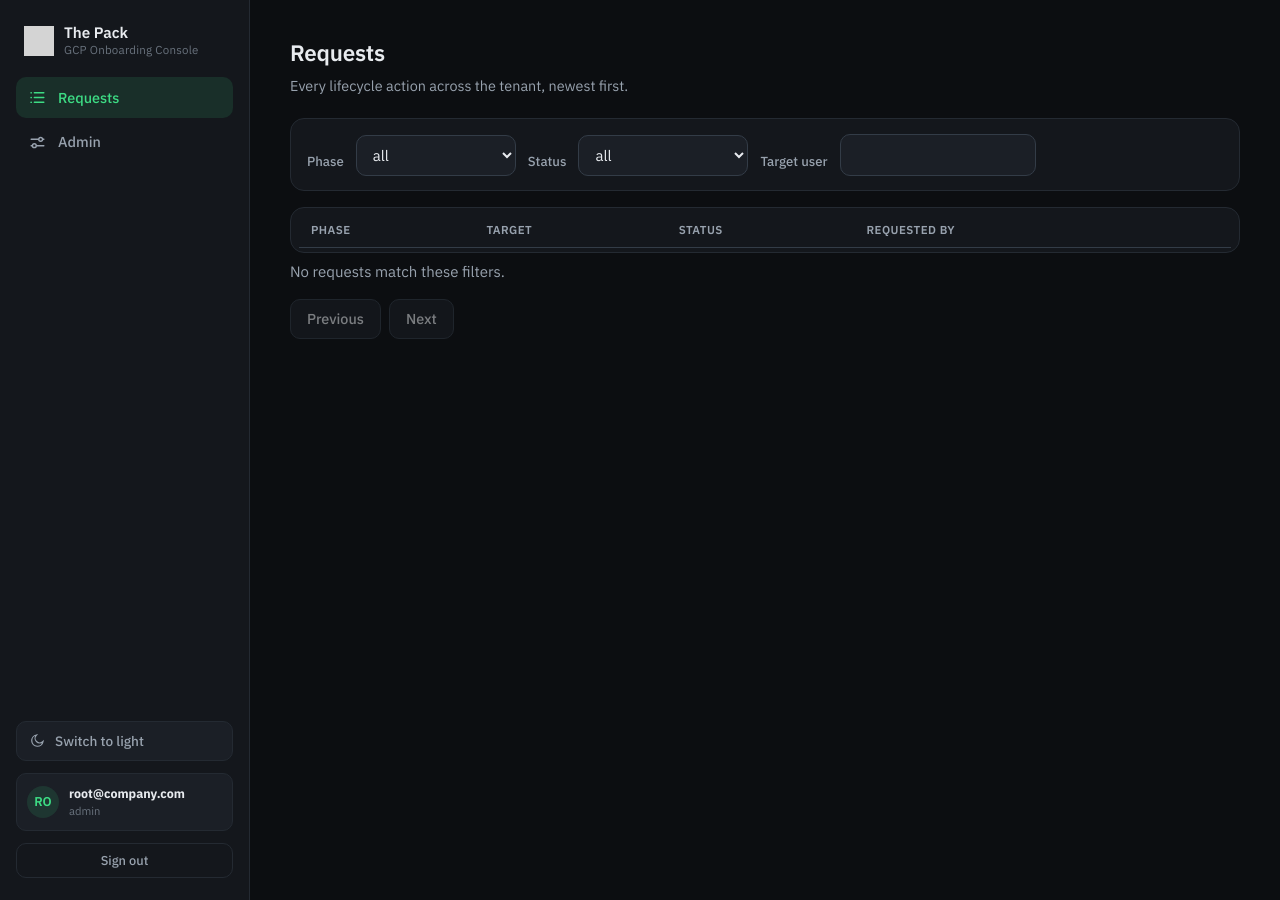
Test: REQ-012 AC-5: the admin surface is reachable, and only by admins › saves a binding as a PUT of the complete role set
Click the button "Admin".
click(124, 142)  # box [16, 121, 233, 163]
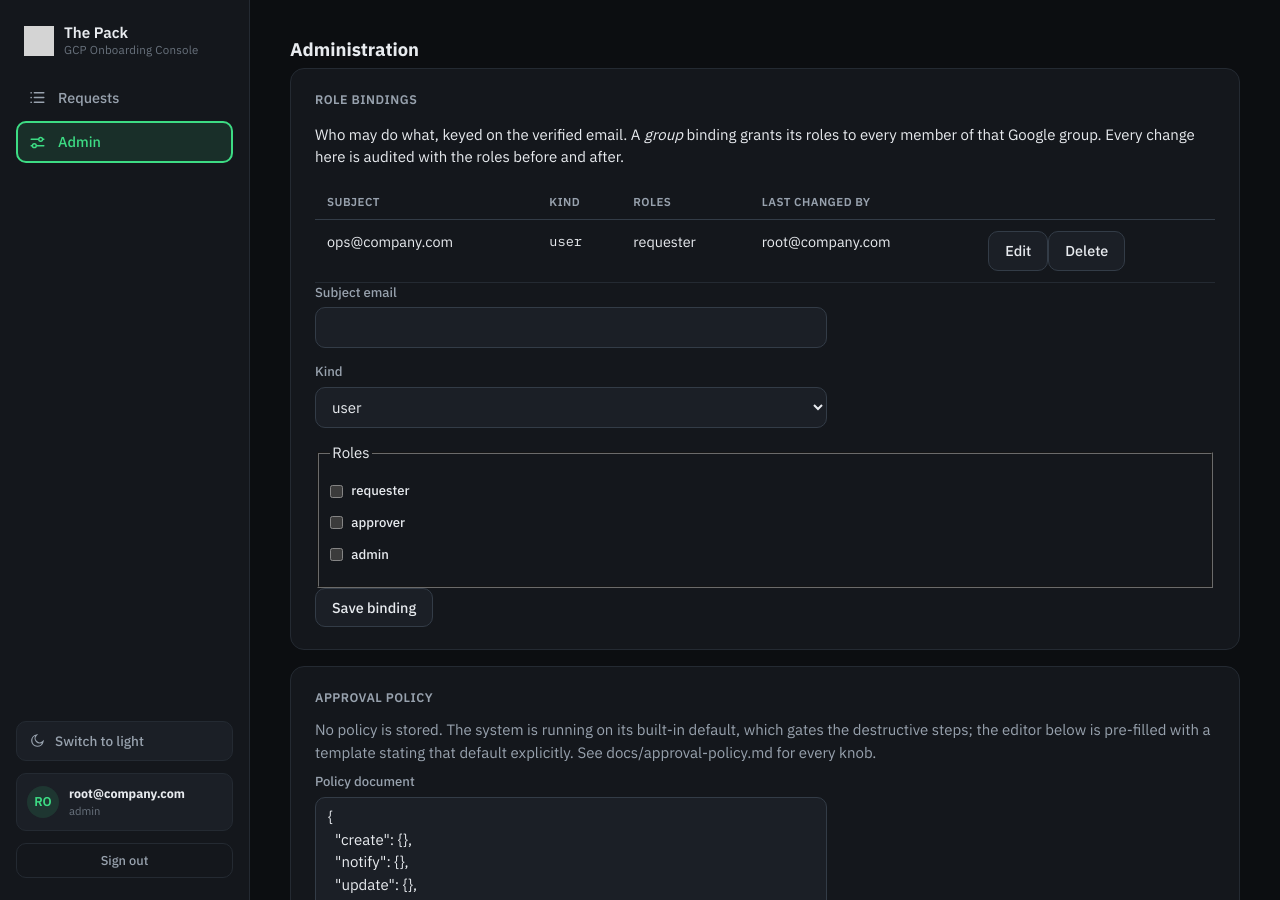
Type "new.admin@company.com" into the field labelled "Subject email".
click(571, 328); type("new.admin@company.com")  # box [315, 307, 827, 348]
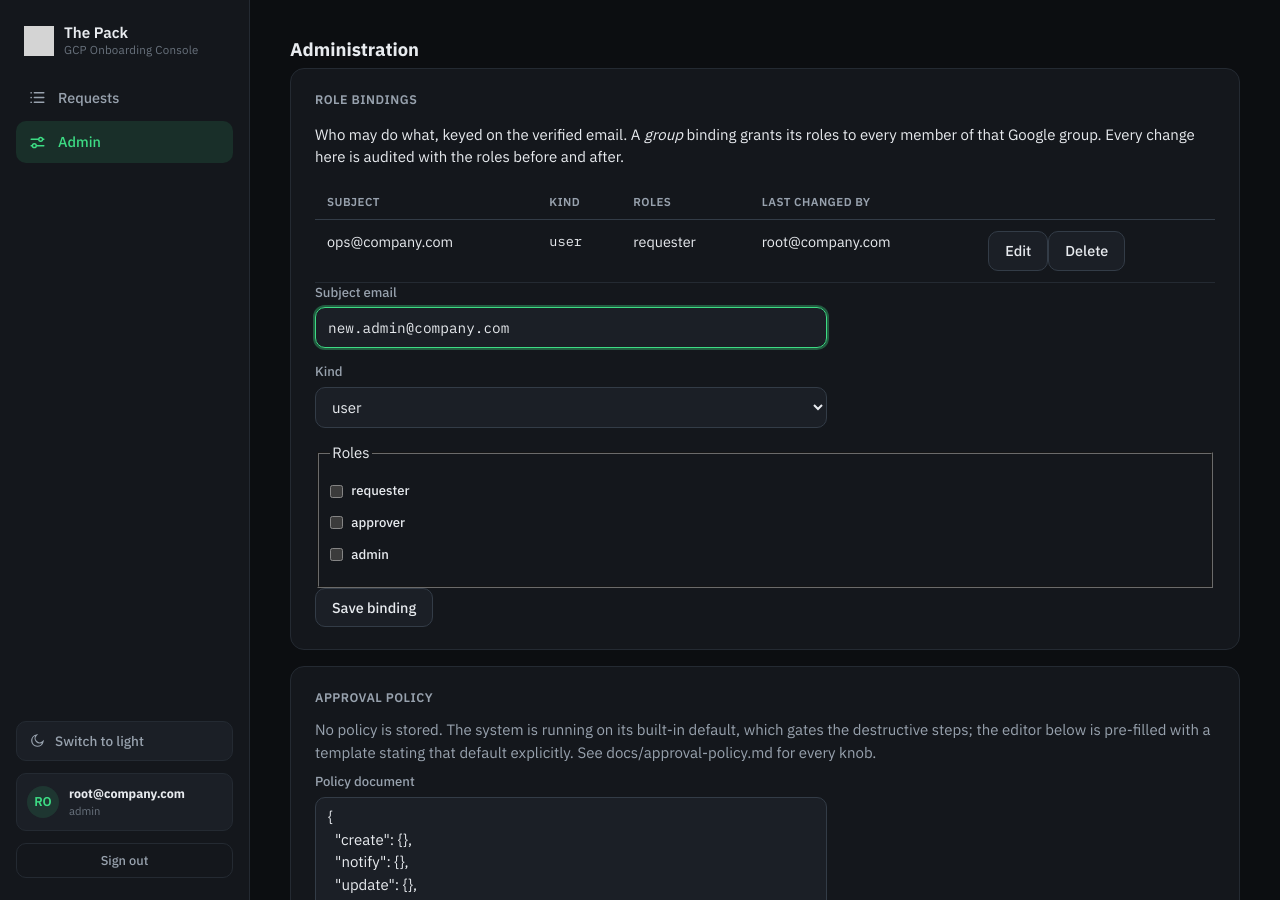
Click the checkbox labelled "approver".
click(337, 523)  # box [330, 516, 343, 529]
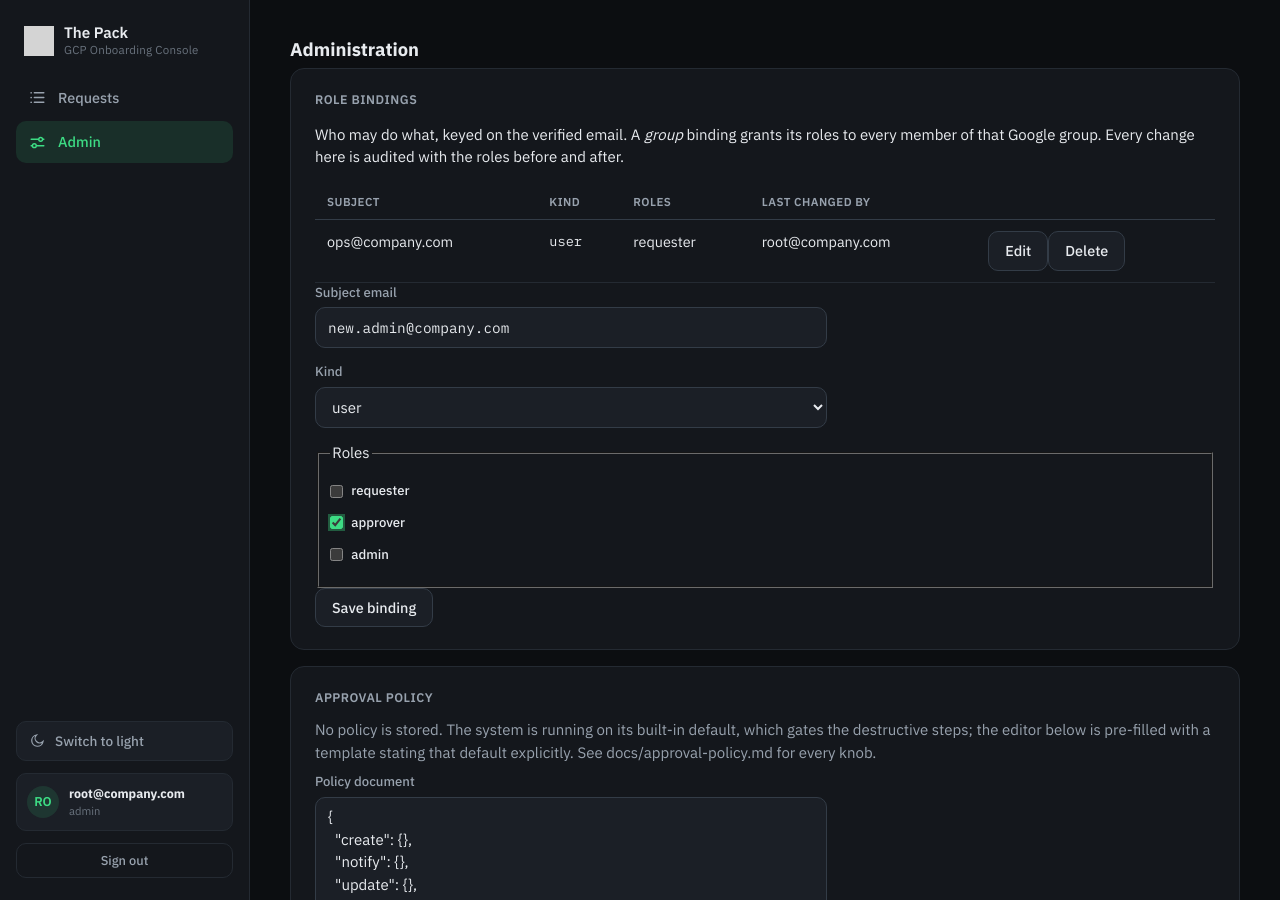
Click the button "Save binding".
click(374, 608)  # box [315, 588, 433, 627]
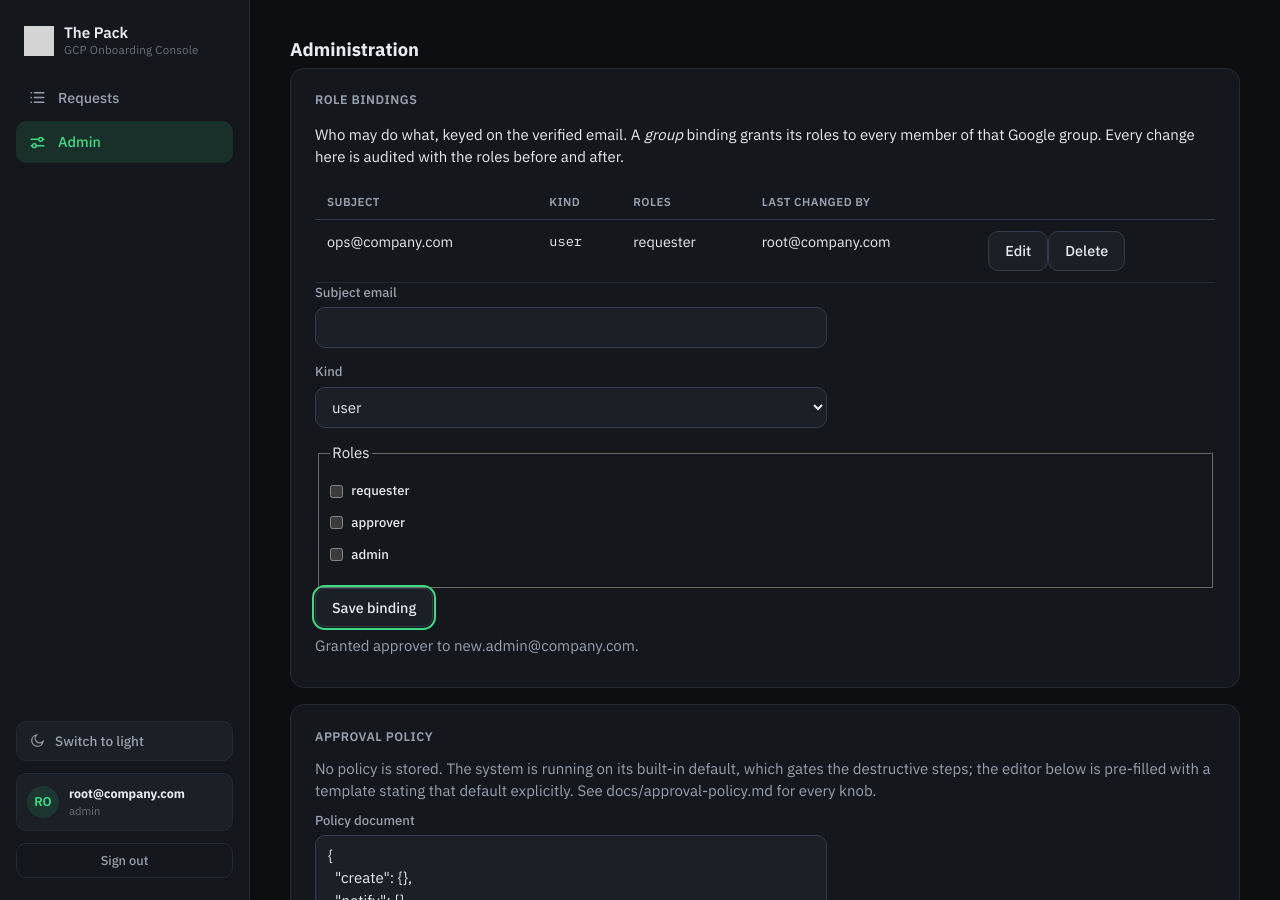
Now the text "Granted approver to new.admin@company.com." is shown, box [315, 636, 639, 655]
